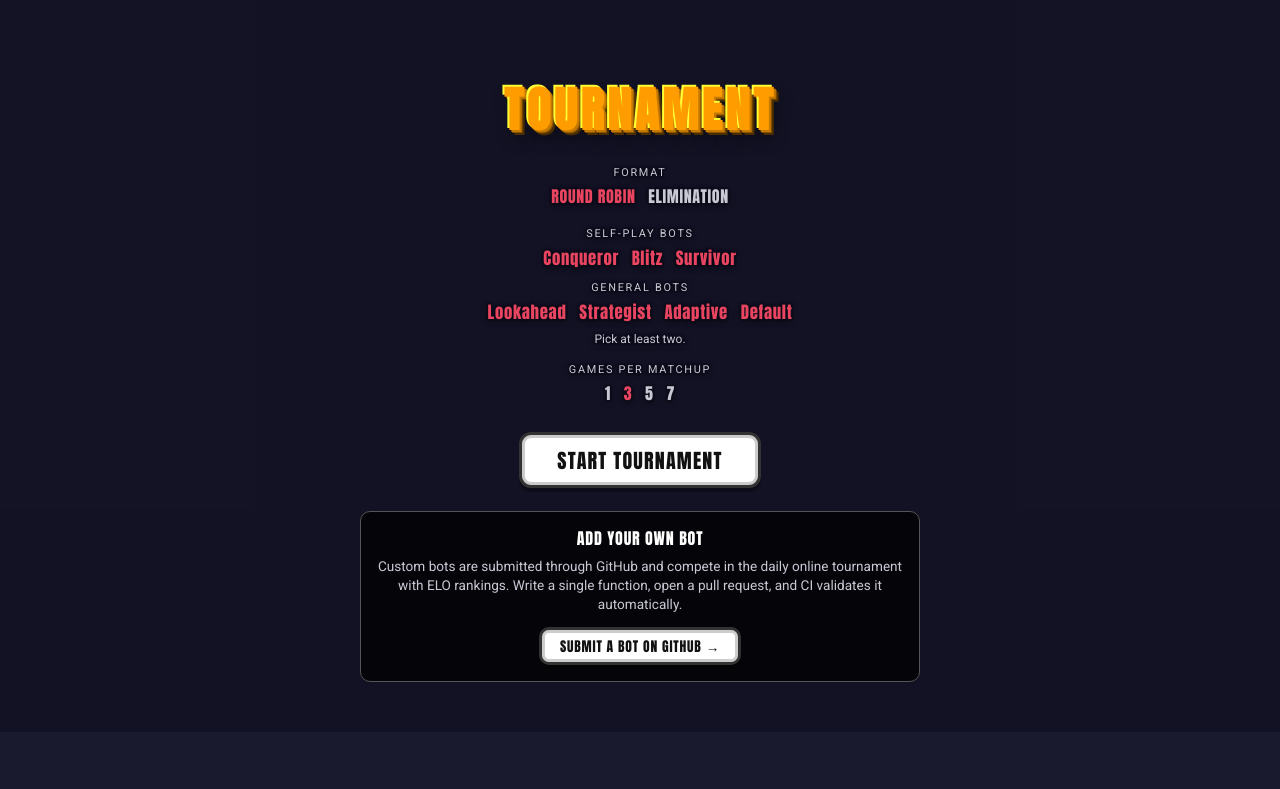
Scenario: TournamentScreen broken-bot surfacing › threads result.flagged into the leaderboard so the broken row gets a badge
Click the button "START TOURNAMENT" at (640, 460), box [519,432,761,488]
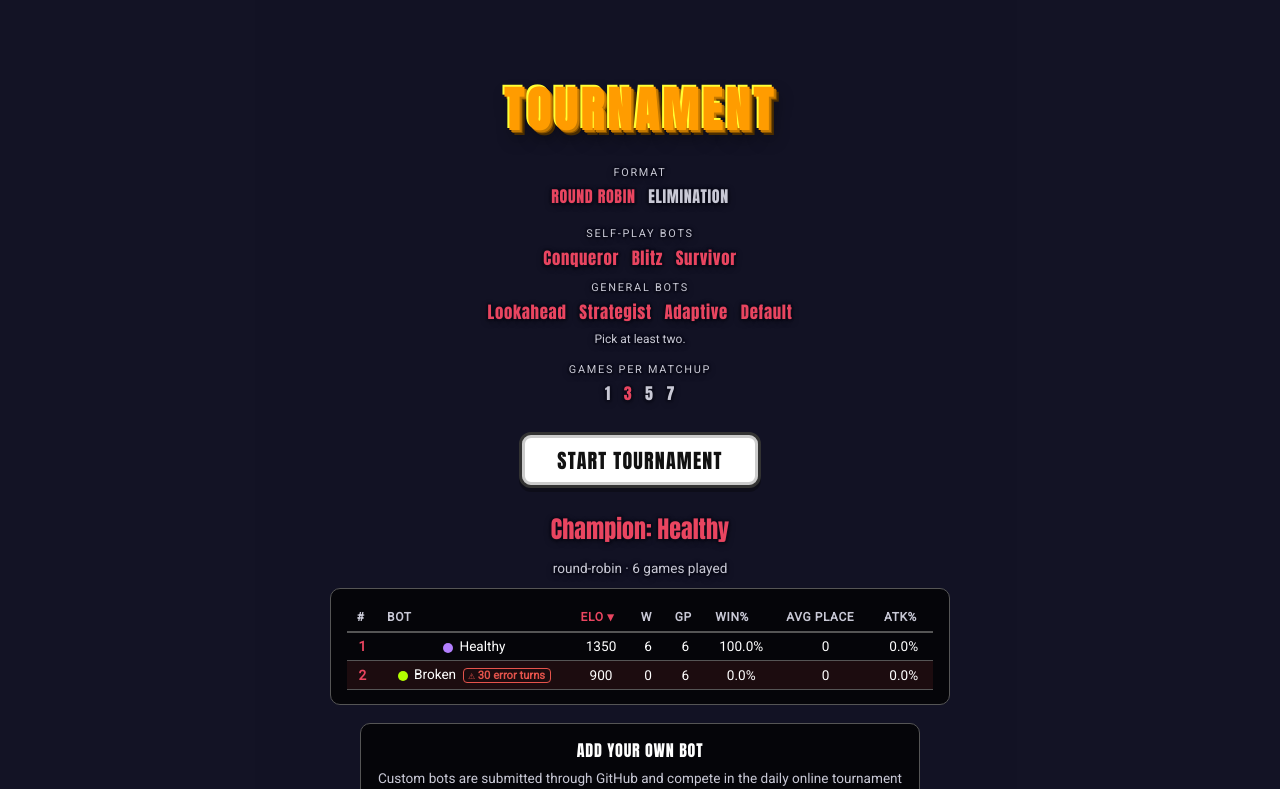
Check: the text "⚠" is not shown
Check: the row "2 Broken ⚠ 30 error turns 900 0 6 0.0% 0 0.0%" is shown, box [347,660,933,689]
